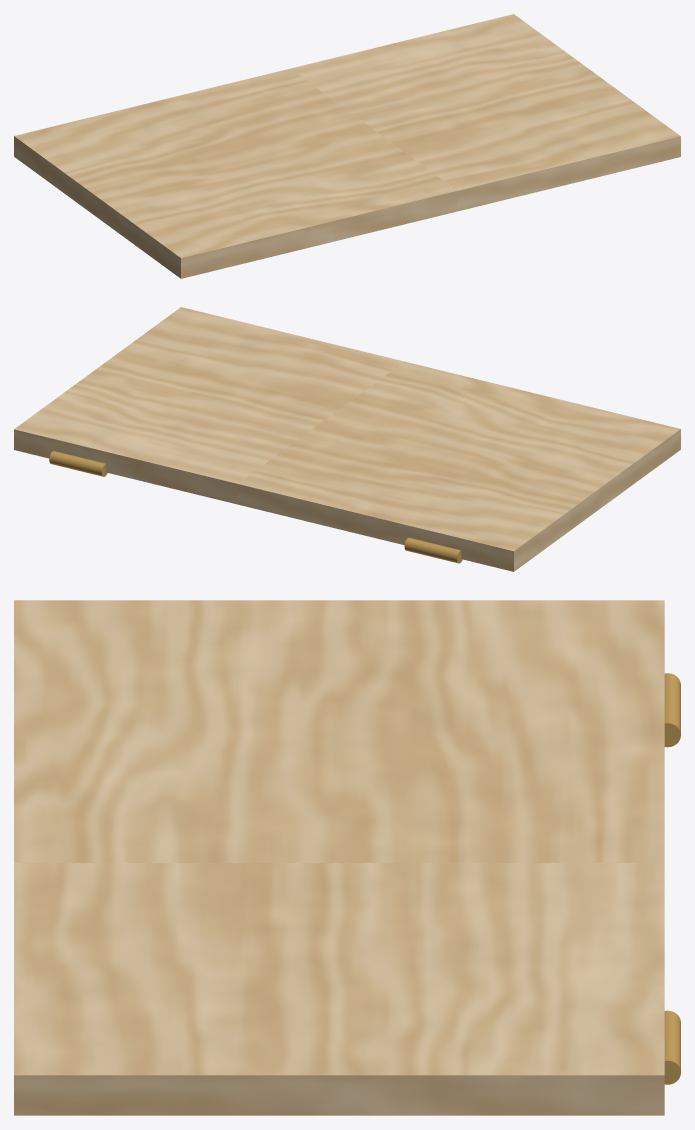
Rendered from lid_maple.glb.
The picture shows the model from 3 angles, top to bottom: view 1: azimuth 30°, elevation 25°; view 2: azimuth 150°, elevation 25°; view 3: azimuth 270°, elevation 25°; orthographic projection. The views are drawn at different scales.
Parts seen in each view (by area): view 1: lid_maple; view 2: lid_maple; view 3: lid_maple.
Part boxes in pixels (box(x1,y1,x2,y2)): lid_maple: box(14, 14, 680, 278); lid_maple: box(14, 307, 680, 571); lid_maple: box(14, 600, 680, 1115).
Bounding box in the file's own units: 0.38 × 0.0175 × 0.2255.
Materials: 3 (2 with a texture image).
